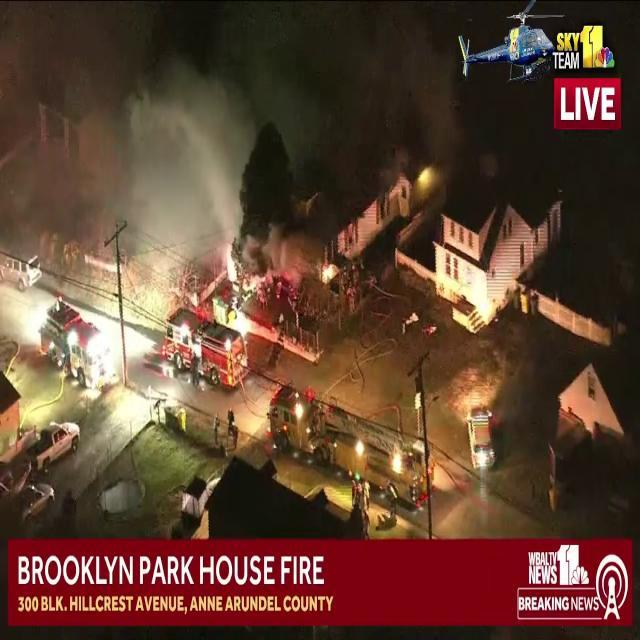Smoke: (0, 0, 246, 291), (276, 0, 472, 192)
